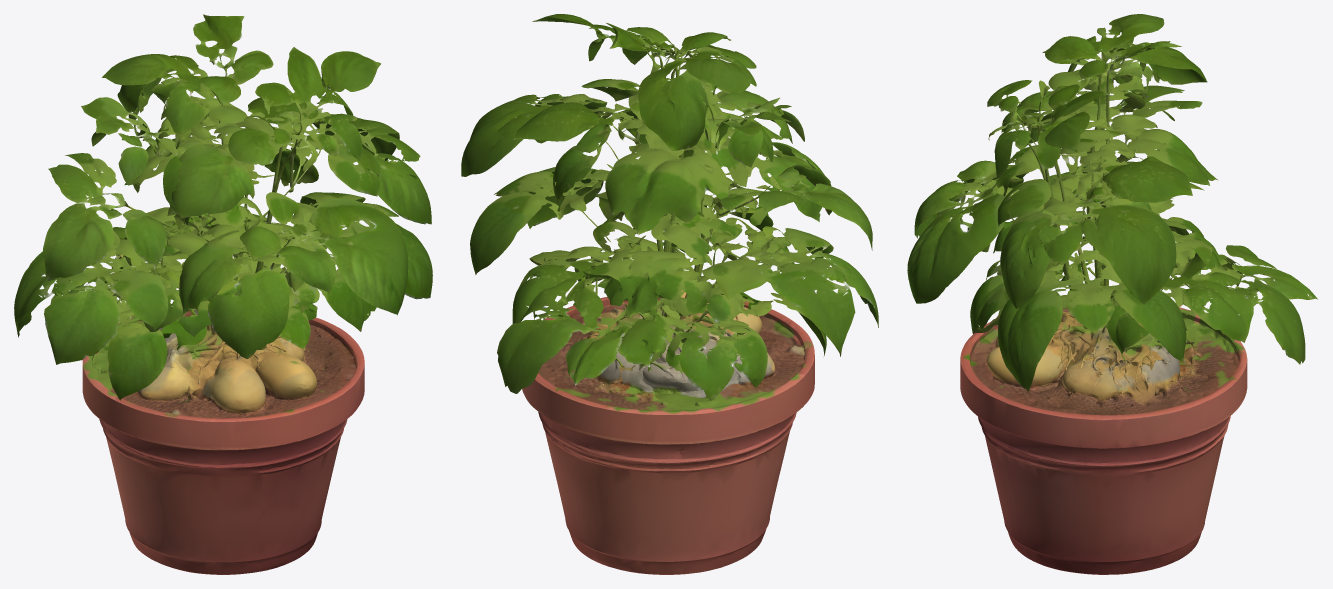
Rendered from kentang.glb.
3 views of the same model, side by side, from view 1: azimuth 30°, elevation 25°; view 2: azimuth 150°, elevation 25°; view 3: azimuth 270°, elevation 25° (orthographic). The views are drawn at different scales.
Visible parts, largest first — view 1: model; view 2: model; view 3: model.
Boxes of the visible parts, left/top/right/bottom form: model: left=14, top=14, right=432, bottom=574; model: left=461, top=14, right=878, bottom=574; model: left=907, top=14, right=1317, bottom=574.
Size of the model in its own units: 1.47 by 1.89 by 1.39.
Materials: 1 (1 with a texture image).
